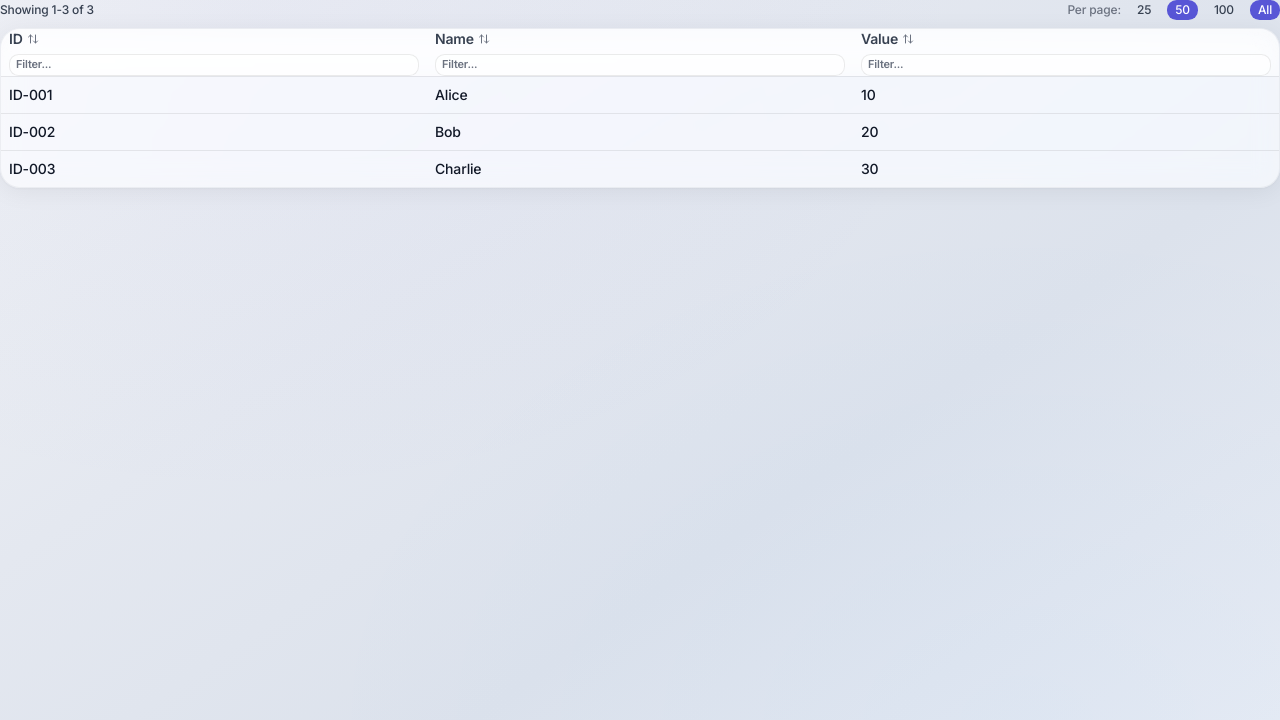
Test: DataTable › filters by column text input
# Type in the Name column filter (second input)
Type "Ali" into the field with placeholder "Filter..." below "Name".
click(640, 65); type("Ali")  # box [435,54,845,76]
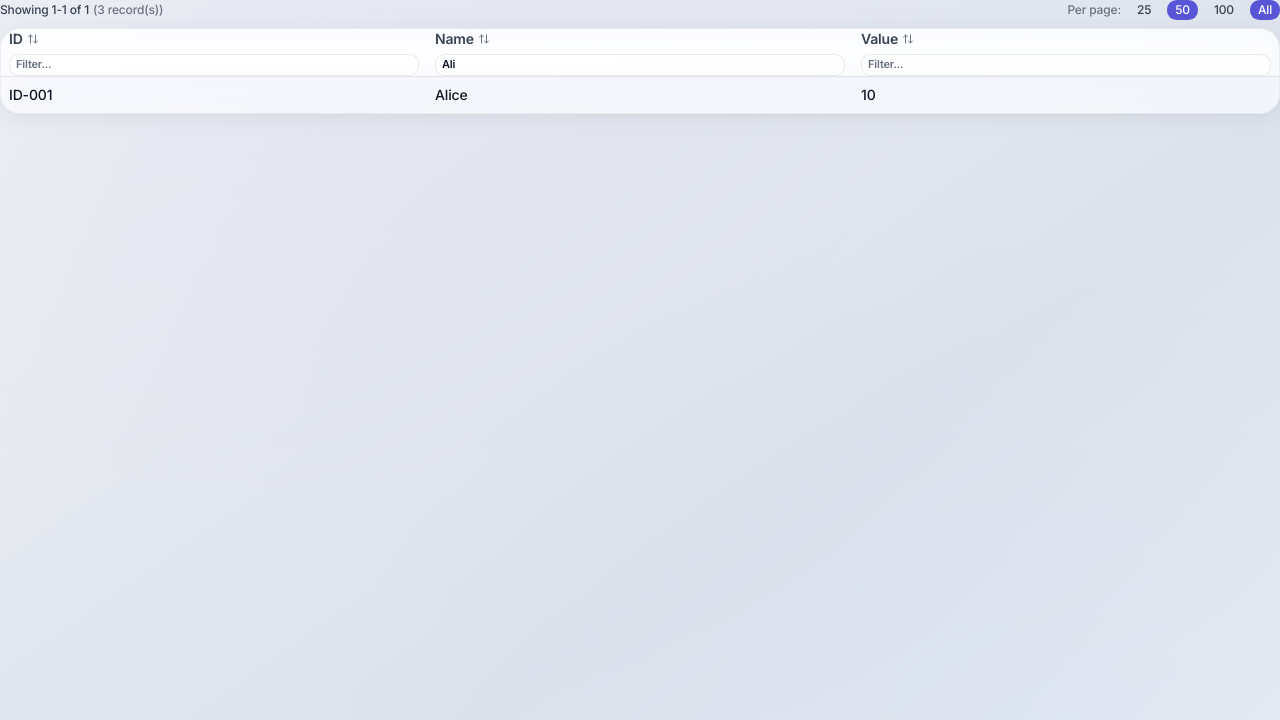
Check: the text "Alice" is shown, box [427,76,853,113]
Check: the text "Bob" is gone
Check: the text "Charlie" is gone
